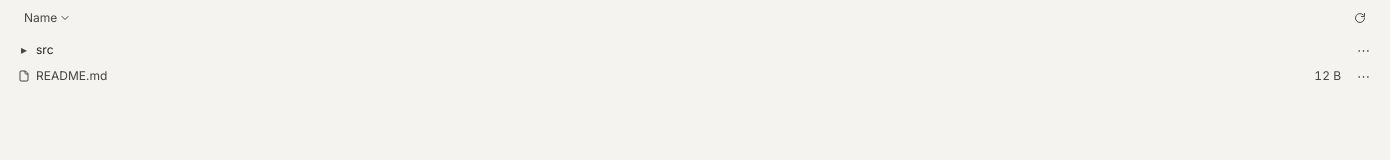
Scenario: FilesSurface › shows a folder's own refusal under its row, beside the rest of the tree
Step 1. Click the button with class "workspace-tree-dir" → (24,50), box [12,38,1347,62]
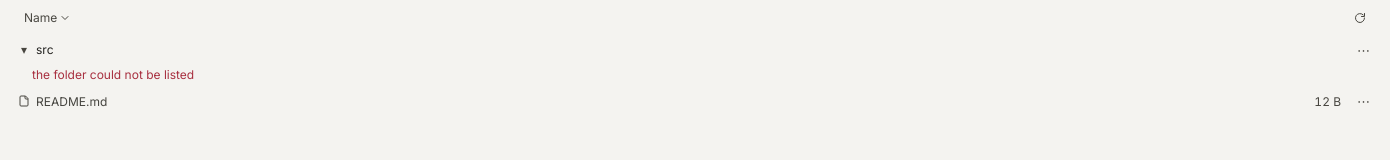
expect the message with class "workspace-tree-row-note-error" reads "the folder could not be listed": met, box [32,67,194,82]
